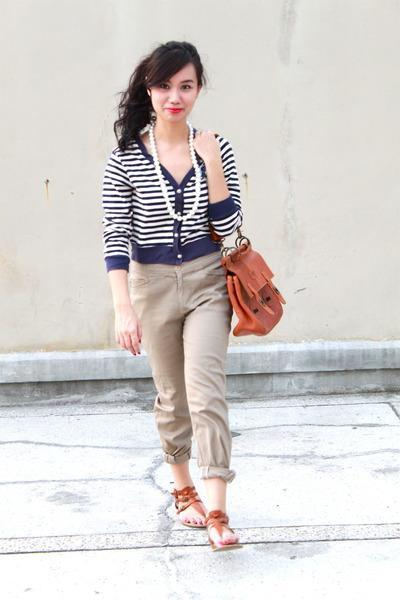bag: (222, 236, 285, 336)
jacket: (101, 156, 241, 272)
pants: (136, 247, 239, 467)
shoe: (171, 486, 234, 533)
